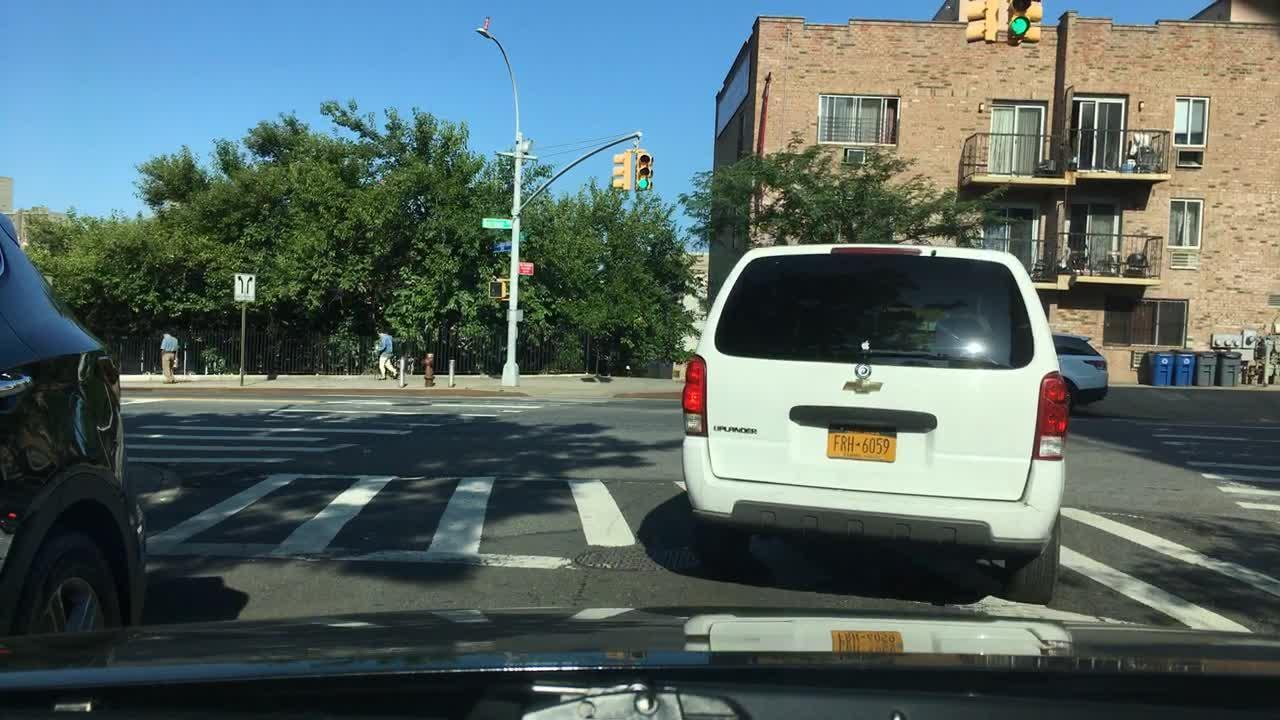chevrolet: (837, 373, 890, 404)
